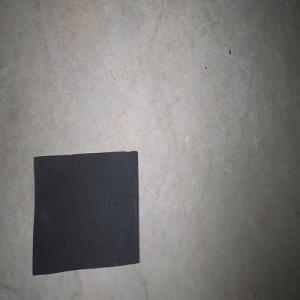PaintChip: (32, 150, 139, 275)
